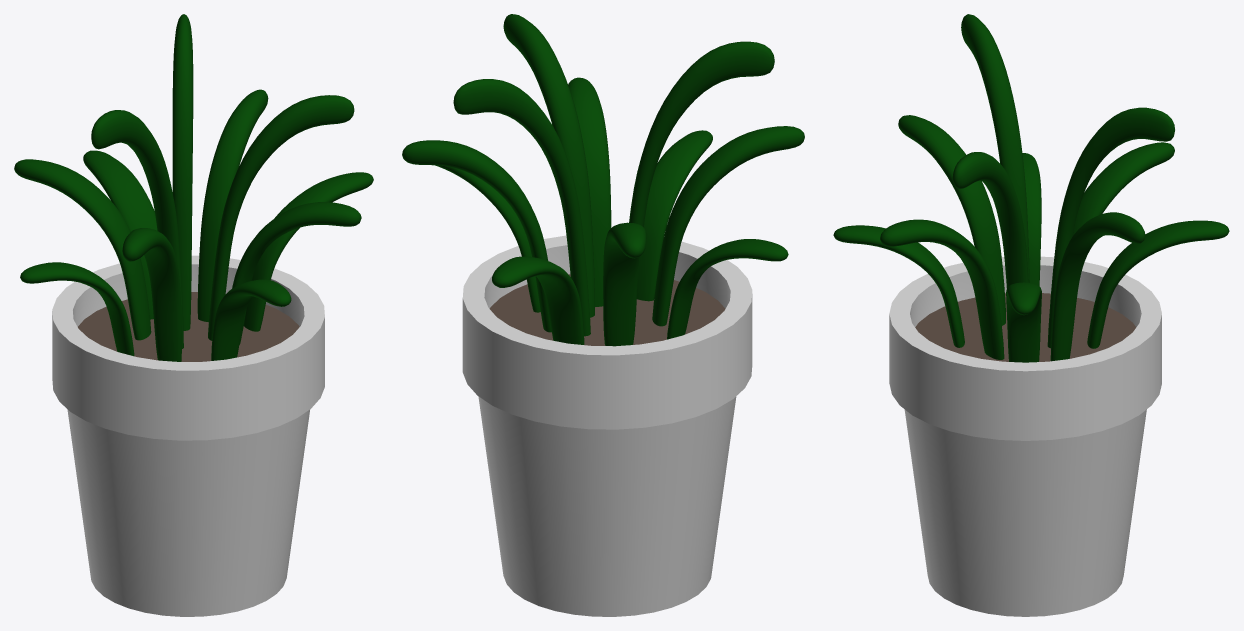
File: Plante1_2.fbx
3 views of the same model, side by side, from view 1: azimuth 30°, elevation 25°; view 2: azimuth 150°, elevation 25°; view 3: azimuth 270°, elevation 25° (orthographic). The views are drawn at different scales.
Parts seen in each view (by area): view 1: pCylinder732, pCube1946, pCube1949, pCube1943, pCube1948, pCylinder733, pCube1950, pCube1941, pCube1942, pCube1947, pCube1944, pCube1945 (+1 smaller); view 2: pCylinder732, pCube1949, pCube1950, pCube1946, pCube1941, pCylinder733, pCube1943, pCube1945, pCube1947, pCube1948, pCube1942, pCube1940 (+1 smaller); view 3: pCylinder732, pCylinder733, pCube1949, pCube1950, pCube1941, pCube1947, pCube1943, pCube1946, pCube1942, pCube1948, pCube1945, pCube1944 (+1 smaller).
Boxes of the visible parts, left/top/right/bottom form: pCylinder732: left=52, top=255, right=324, bottom=616; pCube1946: left=208, top=95, right=354, bottom=340; pCube1949: left=172, top=14, right=193, bottom=330; pCube1943: left=197, top=89, right=268, bottom=322; pCube1948: left=14, top=159, right=151, bottom=340; pCylinder733: left=78, top=292, right=299, bottom=361; pCube1950: left=91, top=110, right=183, bottom=348; pCube1941: left=122, top=228, right=181, bottom=361; pCube1942: left=83, top=150, right=157, bottom=319; pCube1947: left=232, top=202, right=361, bottom=344; pCube1944: left=243, top=172, right=373, bottom=331; pCube1945: left=211, top=279, right=291, bottom=360; pCylinder732: left=462, top=235, right=752, bottom=616; pCube1949: left=453, top=79, right=590, bottom=336; pCube1950: left=629, top=41, right=774, bottom=287; pCube1946: left=503, top=14, right=594, bottom=317; pCube1941: left=652, top=126, right=804, bottom=326; pCylinder733: left=490, top=274, right=725, bottom=345; pCube1943: left=402, top=140, right=551, bottom=332; pCube1945: left=636, top=130, right=712, bottom=301; pCube1947: left=568, top=77, right=611, bottom=306; pCube1948: left=603, top=222, right=646, bottom=346; pCube1942: left=492, top=256, right=584, bottom=344; pCube1940: left=667, top=239, right=788, bottom=339; pCylinder732: left=889, top=256, right=1161, bottom=616; pCylinder733: left=915, top=293, right=1135, bottom=361; pCube1949: left=1047, top=107, right=1174, bottom=348; pCube1950: left=961, top=14, right=1029, bottom=282; pCube1941: left=898, top=115, right=1005, bottom=325; pCube1947: left=880, top=219, right=1004, bottom=359; pCube1943: left=1050, top=212, right=1145, bottom=361; pCube1946: left=952, top=152, right=1028, bottom=287; pCube1942: left=1087, top=220, right=1229, bottom=348; pCube1948: left=1073, top=142, right=1174, bottom=235; pCube1945: left=833, top=225, right=964, bottom=347; pCube1944: left=1006, top=282, right=1041, bottom=362.
Bounding box in the file's own units: 16.65 × 22.94 × 16.27.
